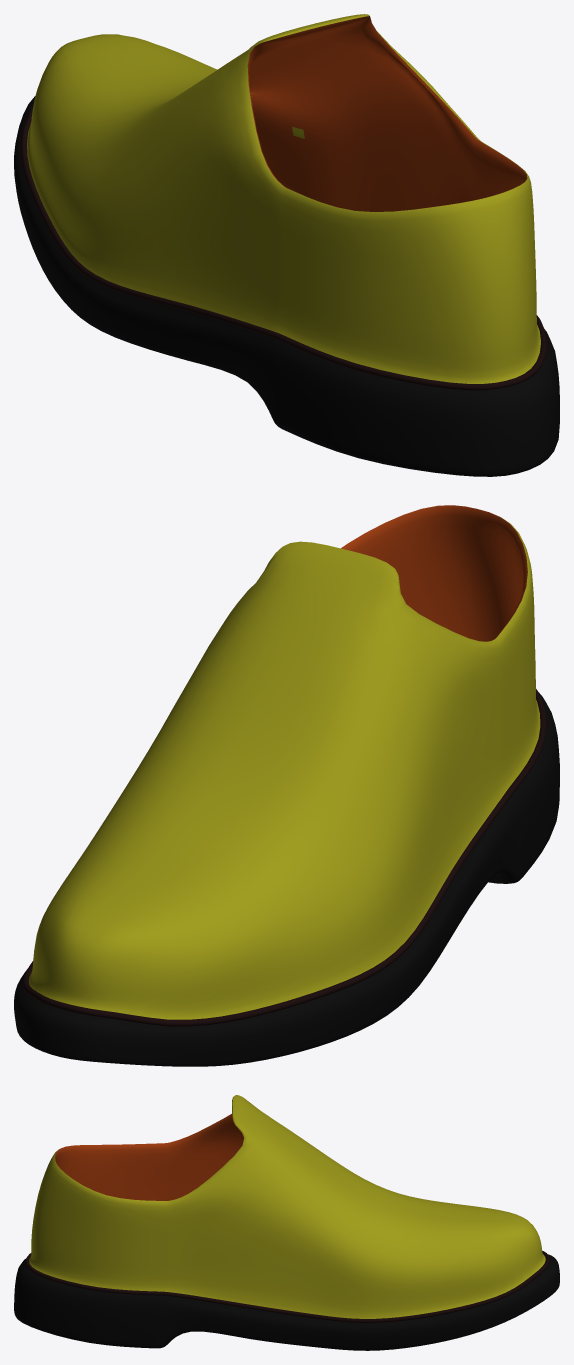
3 renders of one model, top to bottom at view 1: azimuth 30°, elevation 25°; view 2: azimuth 150°, elevation 25°; view 3: azimuth 270°, elevation 25°, orthographic. The views are drawn at different scales.
Parts seen in each view (by area): view 1: Cube, Sweep; view 2: Cube, Sweep; view 3: Cube, Sweep.
Boxes of the visible parts, <box> form: Cube: <box>14,14,559,476</box>; Sweep: <box>20,104,547,390</box>; Cube: <box>14,505,559,1066</box>; Sweep: <box>22,689,546,1026</box>; Cube: <box>14,1095,559,1350</box>; Sweep: <box>25,1251,549,1322</box>.
Size of the model in its own units: 280 by 319 by 766.
